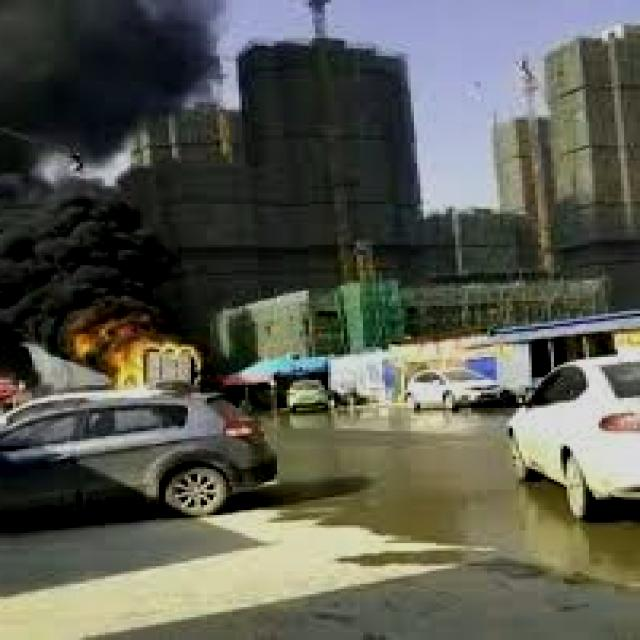fire: (45, 311, 210, 421)
